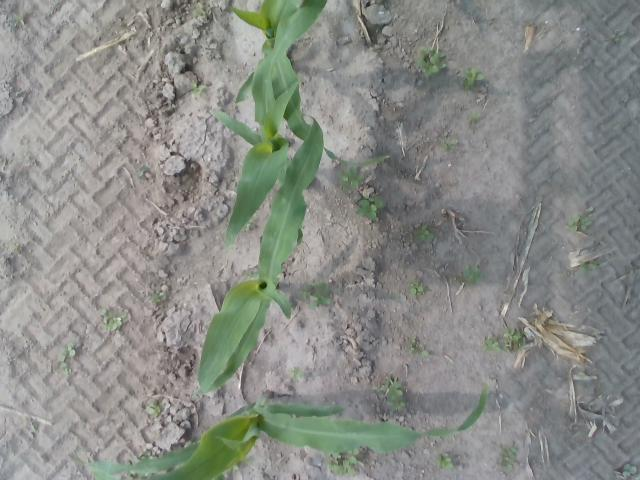Maize: (73, 389, 487, 479), (195, 112, 324, 398), (227, 0, 389, 166), (209, 80, 300, 251)
Weeds: (304, 283, 330, 307), (419, 52, 439, 80), (340, 167, 363, 191), (499, 447, 518, 474), (460, 68, 482, 90), (100, 310, 124, 328), (358, 198, 377, 219), (570, 214, 592, 232), (387, 382, 404, 402), (502, 329, 522, 344), (333, 461, 354, 475), (190, 84, 207, 99), (437, 453, 452, 469), (468, 114, 484, 128), (578, 262, 596, 274), (442, 131, 456, 146), (484, 339, 500, 352), (610, 30, 624, 44), (420, 228, 435, 241), (463, 268, 477, 280), (146, 404, 160, 416), (151, 292, 167, 302), (409, 282, 422, 294), (193, 3, 206, 15), (372, 195, 386, 206), (57, 357, 68, 368), (348, 451, 359, 462), (290, 367, 300, 376), (409, 339, 416, 351), (68, 346, 76, 356), (396, 401, 406, 409), (64, 368, 72, 375), (422, 350, 430, 356)
